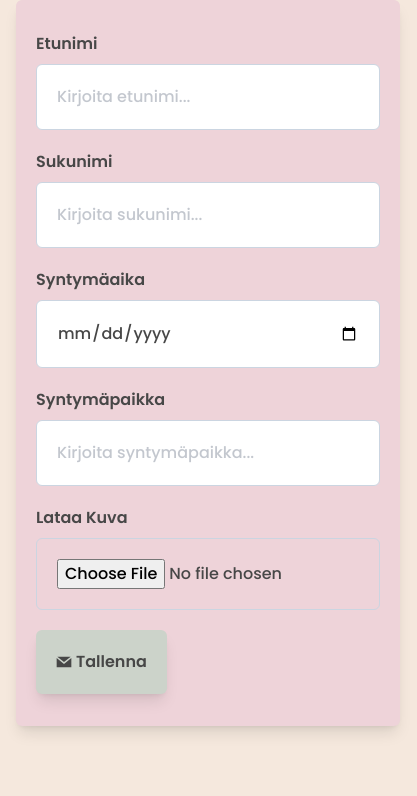
Test: BabyForm Component › shows error message on submission failure
This screenshot has width=417, height=796.
In the field labelled "Etunimi": {"x": 208, "y": 97} [36,64,380,130], type "John"
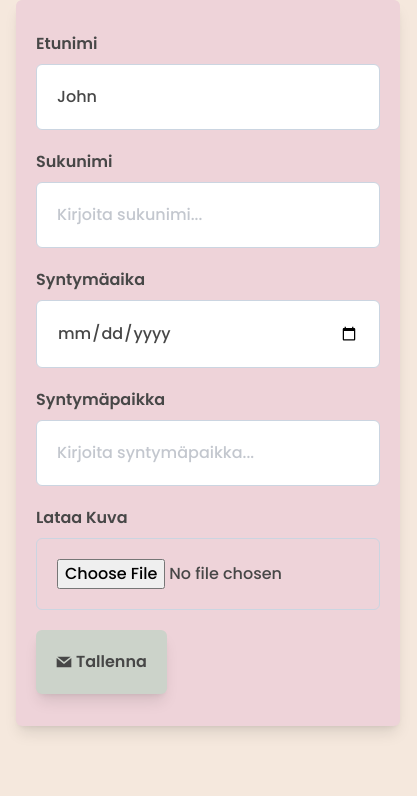
In the field labelled "Sukunimi": {"x": 208, "y": 215} [36,182,380,248], type "Doe"
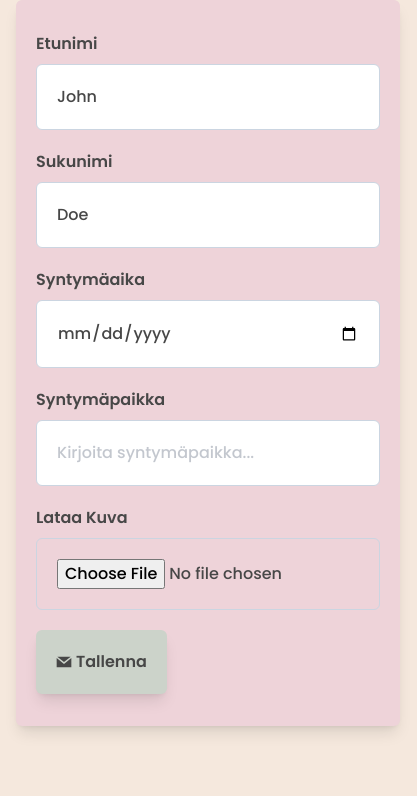
In the date field labelled "Syntymäaika": {"x": 208, "y": 334} [36,300,380,368], type "2023-01-01"
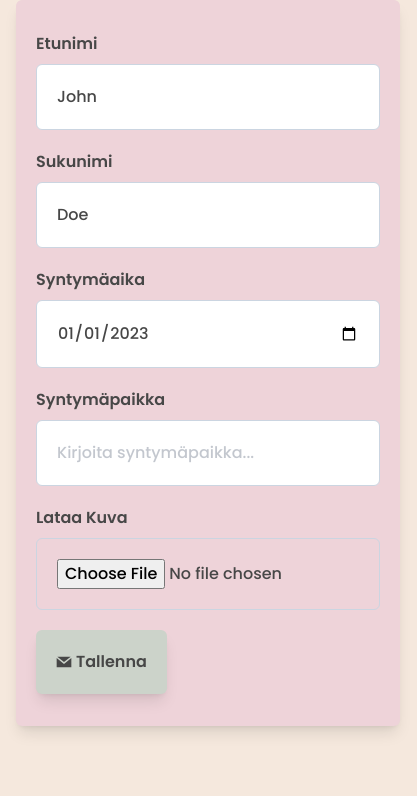
In the field labelled "Syntymäpaikka": {"x": 208, "y": 453} [36,420,380,486], type "Helsinki"
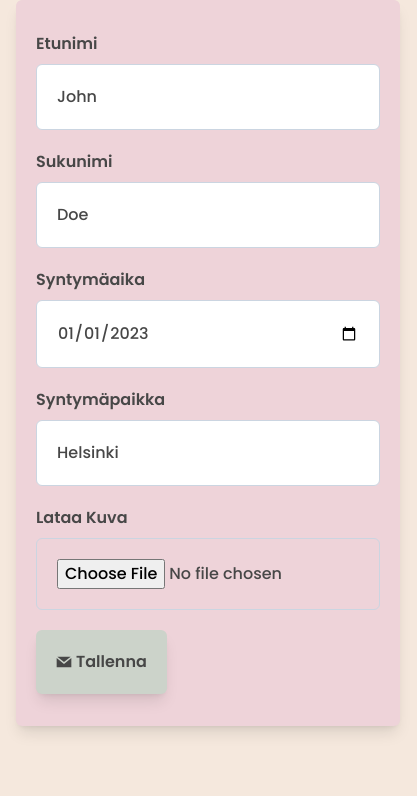
Click the button "Tallenna": {"x": 101, "y": 662} [36,630,167,694]
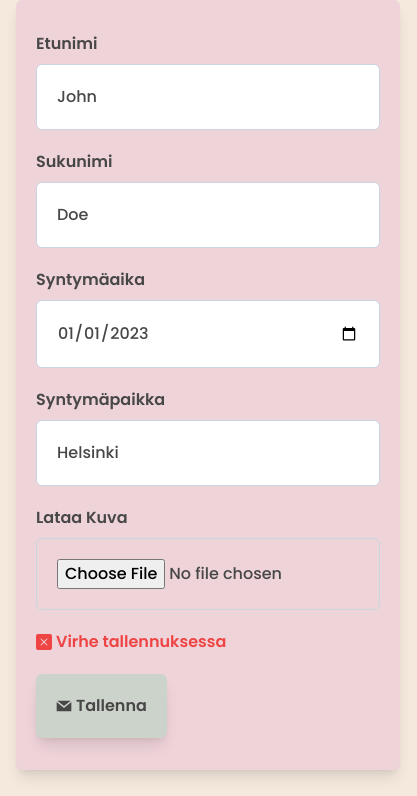
Result: the text "Virhe tallennuksessa" is shown at [36,630,226,653]
